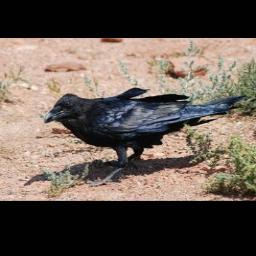Crow: (43, 86, 251, 188)
